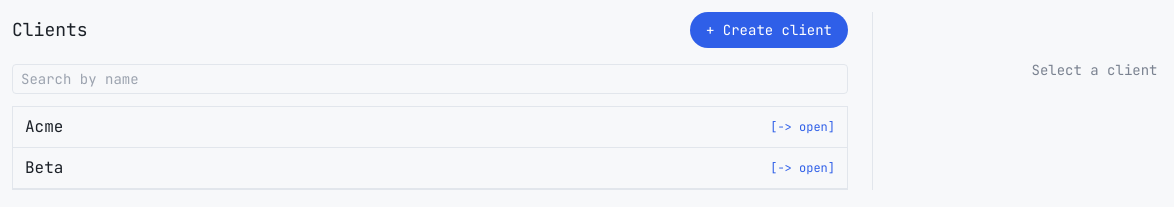
Test: ClientsListRoute › search matches by company name too
Expected: the text "Acme" is shown, [25,115,63,139]
Expected: the text "Beta" is shown, [25,156,63,180]
Type "northgate" into the field with placeholder "Search by name" at (430, 79), box [12,64,848,94]
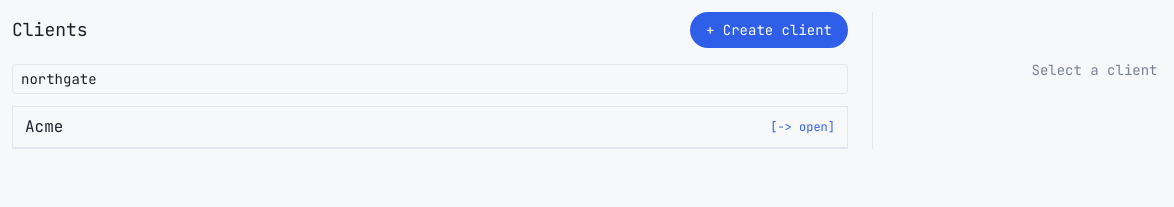
Expected: the text "Acme" is shown, [25,115,63,139]
Result: the link "Beta" is gone
